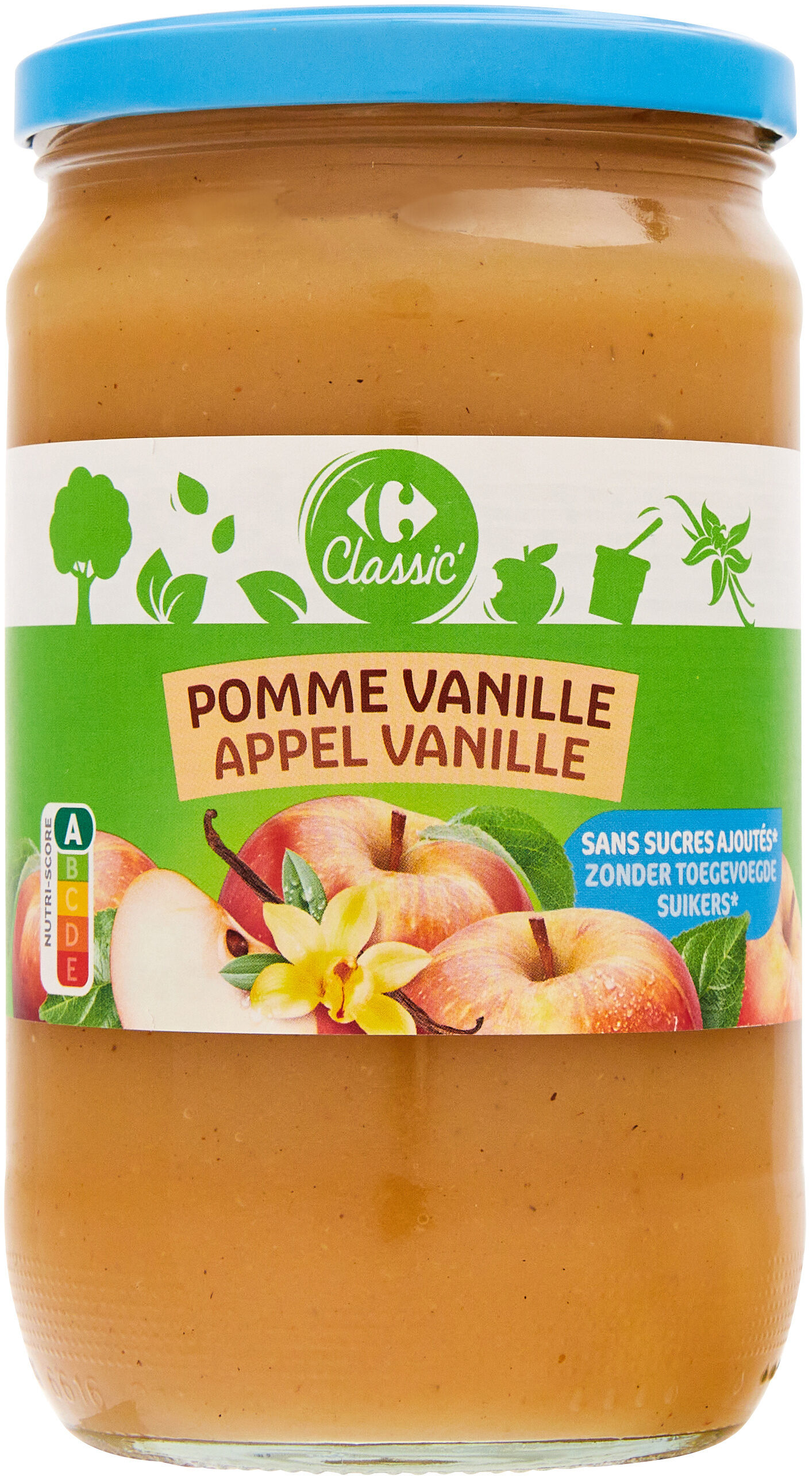Pomme vanille: (40, 74, 769, 1402)
